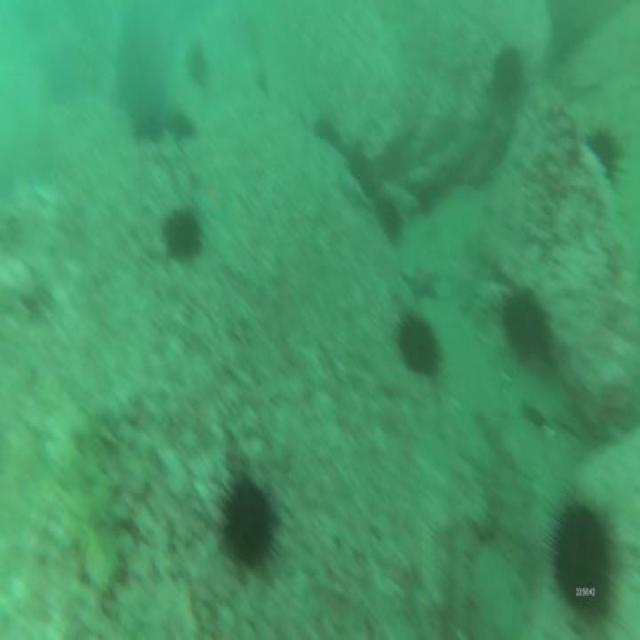echinus: (543, 482, 623, 632), (213, 466, 279, 577), (499, 276, 548, 369), (388, 305, 442, 379), (156, 198, 207, 267), (583, 120, 625, 196), (490, 38, 527, 109), (344, 147, 382, 202), (374, 188, 404, 250), (311, 114, 348, 156), (164, 103, 198, 145), (132, 109, 164, 147), (183, 35, 206, 87)
holothurian: (56, 423, 134, 598)
starfish: (399, 259, 444, 305)
